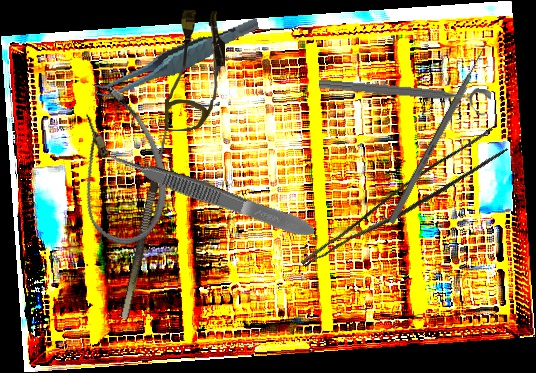Cannula: (52, 77, 184, 254), (164, 9, 227, 133)
Fixation Ring: (317, 74, 492, 118)
Hook Surgical: (108, 109, 176, 320)
Pusher: (387, 37, 493, 225)
Tissue Forceps: (300, 121, 509, 290), (106, 144, 318, 244), (85, 17, 267, 101)
